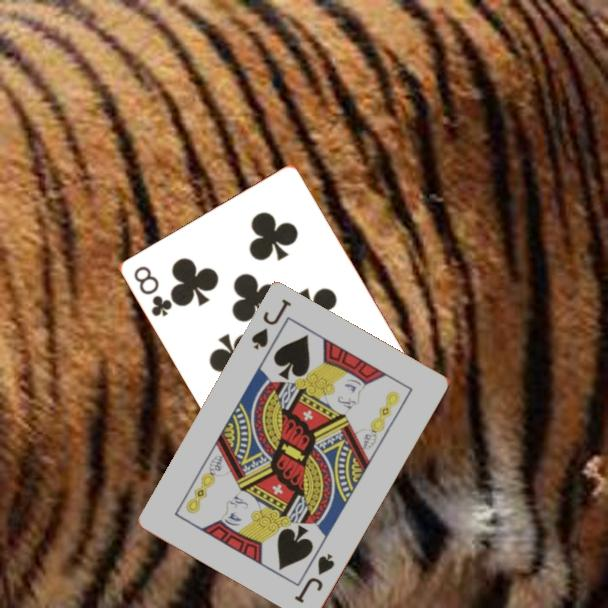c08: (131, 262, 175, 319)
s11: (291, 550, 338, 607), (248, 296, 294, 353)
